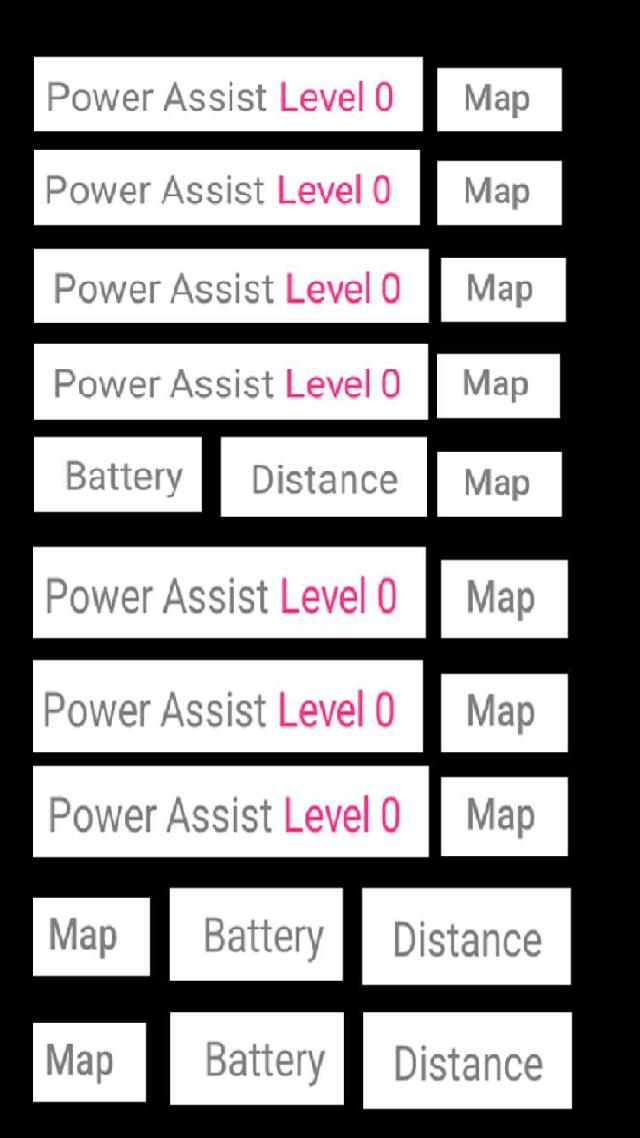Text: (41, 569, 406, 627), (38, 686, 402, 739), (42, 789, 410, 838), (41, 72, 408, 119), (50, 359, 402, 405), (41, 165, 402, 209), (47, 266, 407, 310), (384, 916, 555, 967), (242, 452, 408, 502), (194, 1034, 332, 1094), (388, 1040, 548, 1088), (194, 912, 332, 965), (56, 449, 190, 498), (461, 569, 549, 630), (457, 687, 547, 738), (461, 787, 540, 843), (44, 909, 124, 960), (40, 1039, 117, 1089), (459, 462, 542, 506), (454, 362, 536, 405), (458, 265, 536, 308), (454, 171, 537, 211), (456, 79, 536, 120)
